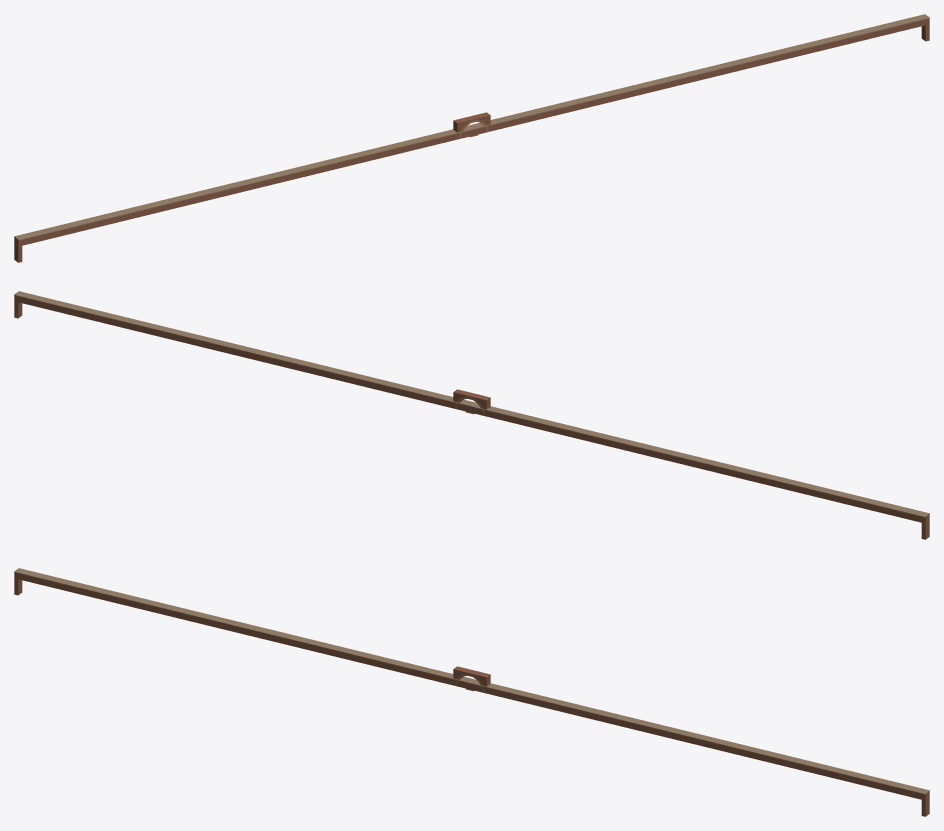
Rendered from neronian-aqueduct.glb.
3 renders of one model, top to bottom at view 1: azimuth 30°, elevation 25°; view 2: azimuth 150°, elevation 25°; view 3: azimuth 330°, elevation 25°, orthographic.
Visible parts, largest first — view 1: aqueduct-channel; view 2: aqueduct-channel; view 3: aqueduct-channel.
Boxes of the visible parts, left/top/right/bottom form: aqueduct-channel: left=14, top=14, right=929, bottom=262; aqueduct-channel: left=14, top=291, right=929, bottom=539; aqueduct-channel: left=14, top=568, right=929, bottom=816.
Size of the model in its own units: 274 by 9.3 by 2.55.
